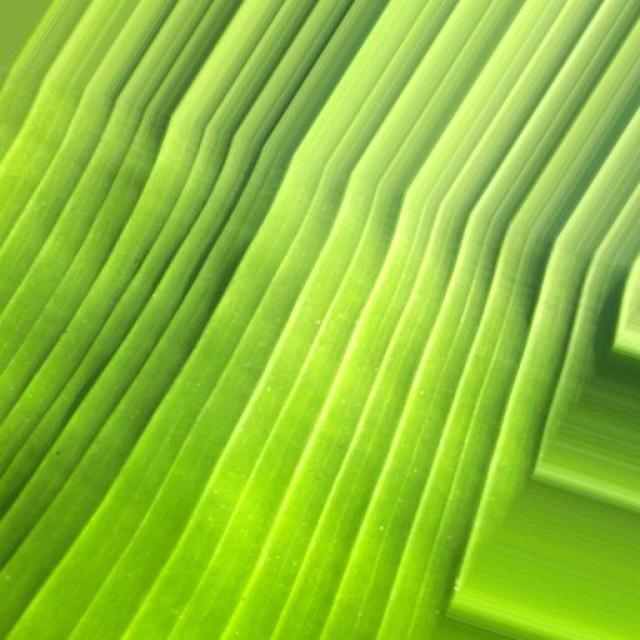Black_leaf_spot: (0, 0, 606, 559)
